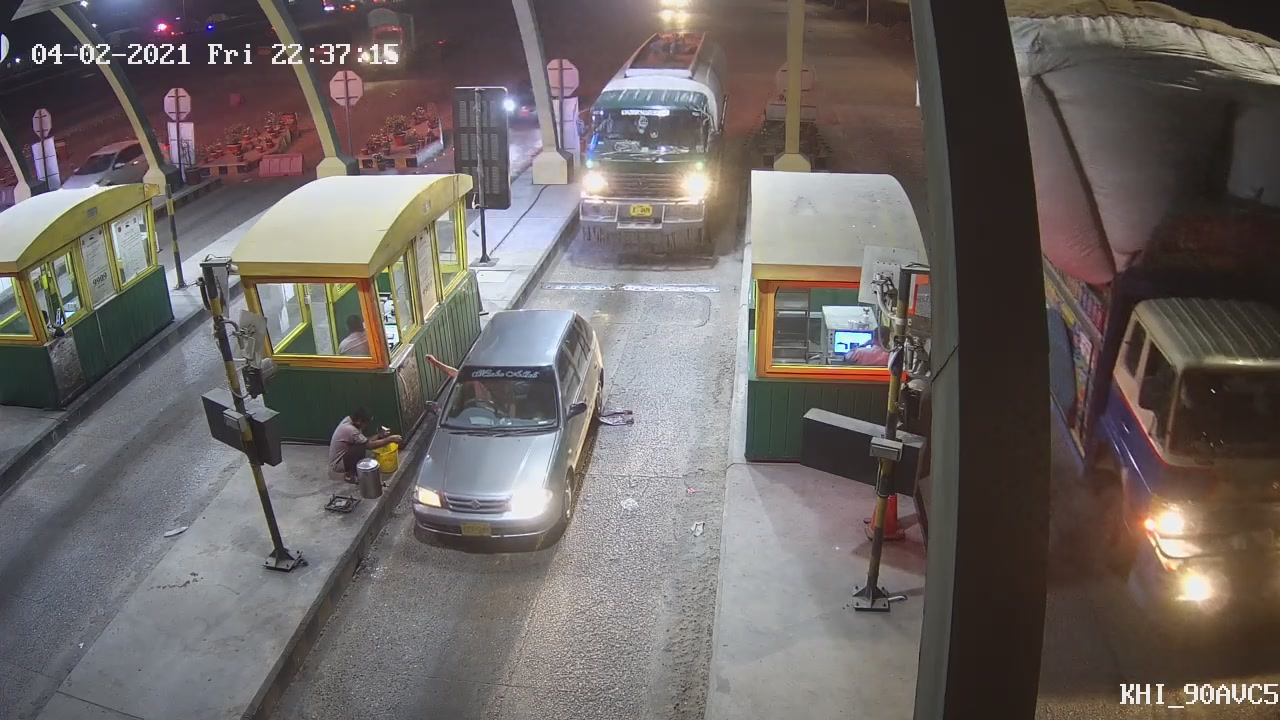F1: (409, 305, 606, 544)
F6: (567, 27, 738, 251)
